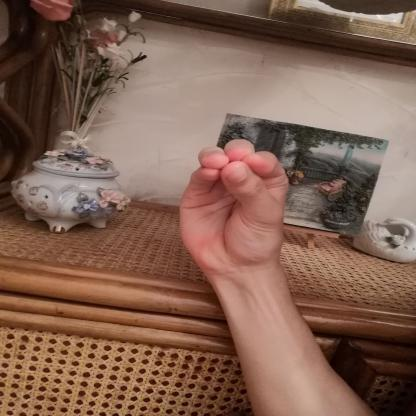HA: (156, 129, 320, 296)
